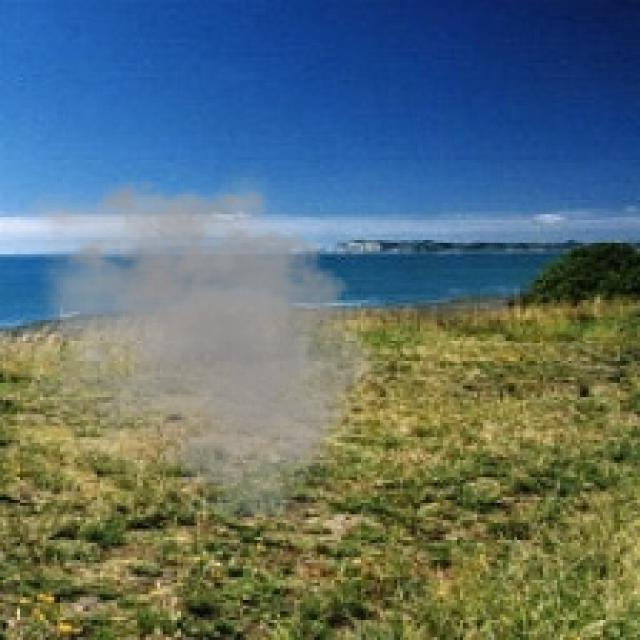Smoke: (8, 162, 394, 534)
